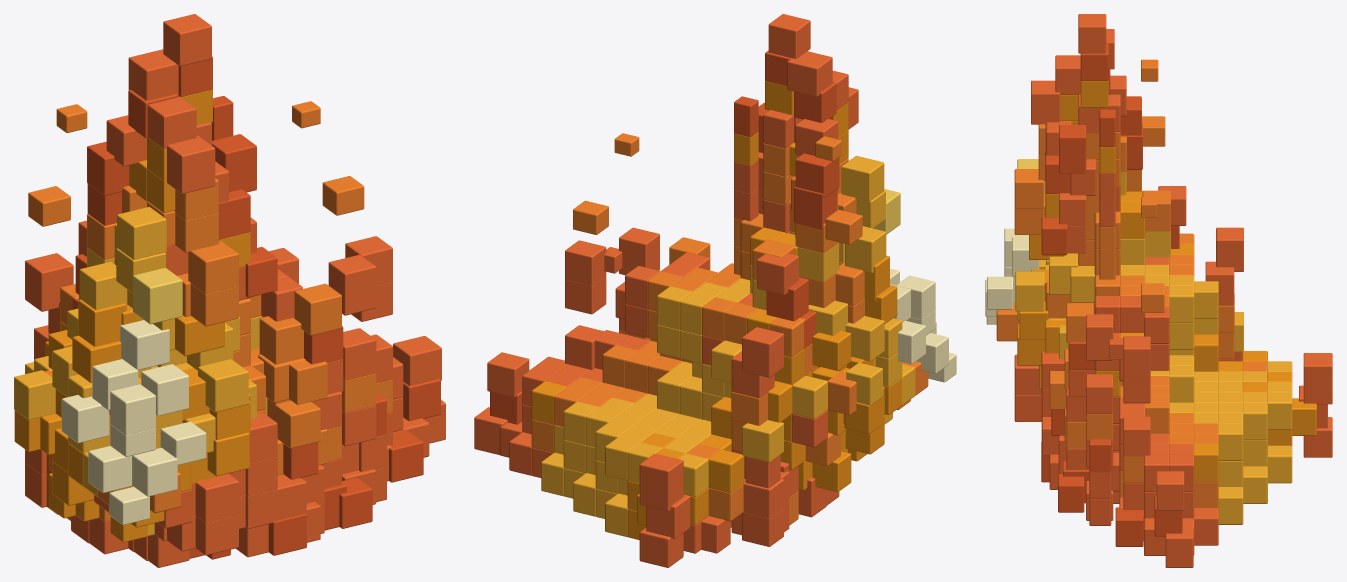
Rendered from SM_Blender_Ember.glb.
The picture shows the model from 3 angles, left to right: view 1: azimuth 30°, elevation 25°; view 2: azimuth 150°, elevation 25°; view 3: azimuth 270°, elevation 25°; orthographic projection. The views are drawn at different scales.
Visible parts, largest first — view 1: SM_Blender_Ember; view 2: SM_Blender_Ember; view 3: SM_Blender_Ember.
Part boxes in pixels (box(x1,y1,x2,y2)): SM_Blender_Ember: box(14, 14, 445, 567); SM_Blender_Ember: box(474, 14, 956, 567); SM_Blender_Ember: box(985, 14, 1332, 567).
Bounding box in the file's own units: 1.18 × 1.35 × 0.9914.
1 material, 1 textured.
